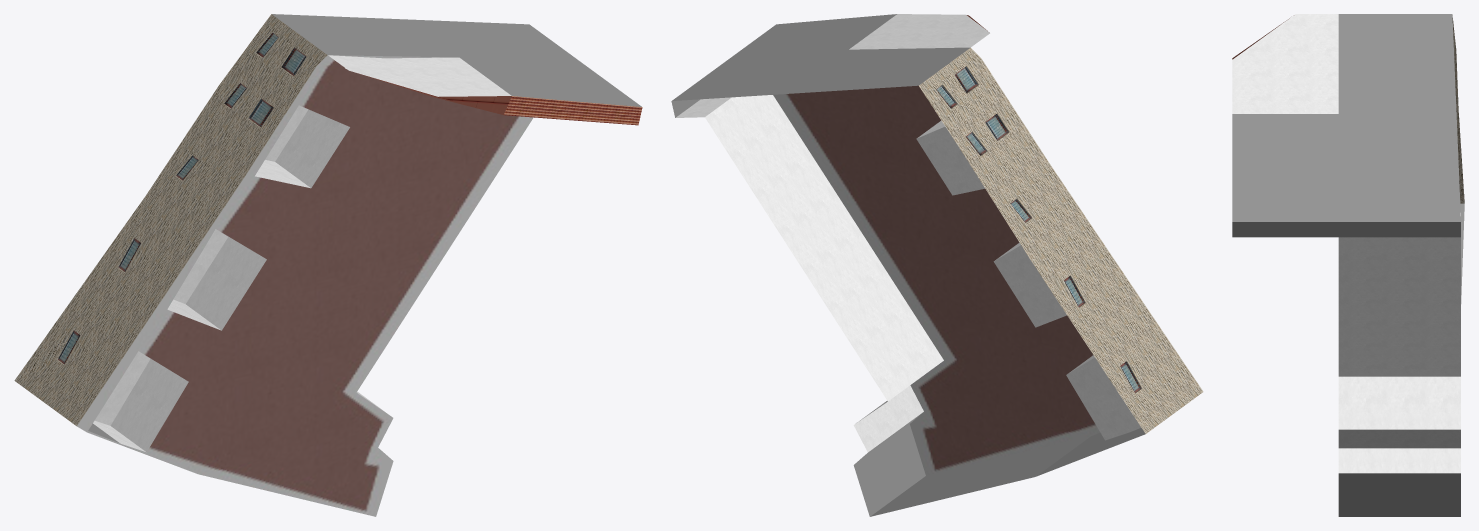
The model's file is Lai_43_2-origo.obj.
The picture shows the model from 3 angles, left to right: view 1: azimuth 30°, elevation 25°; view 2: azimuth 150°, elevation 25°; view 3: azimuth 270°, elevation 25°; orthographic projection. The views are drawn at different scales.
Visible parts, largest first — view 1: Lai_43_2; view 2: Lai_43_2; view 3: Lai_43_2.
Boxes of the visible parts, box(x1,y1,x2,y2) form: Lai_43_2: box(14, 14, 642, 516); Lai_43_2: box(671, 14, 1203, 516); Lai_43_2: box(1232, 14, 1464, 516).
Size of the model in its own units: 31.19 by 27.5 by 12.1.
